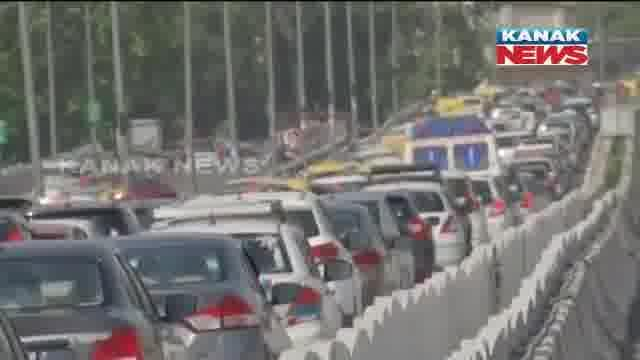AMBULANCE: (402, 110, 499, 165)
